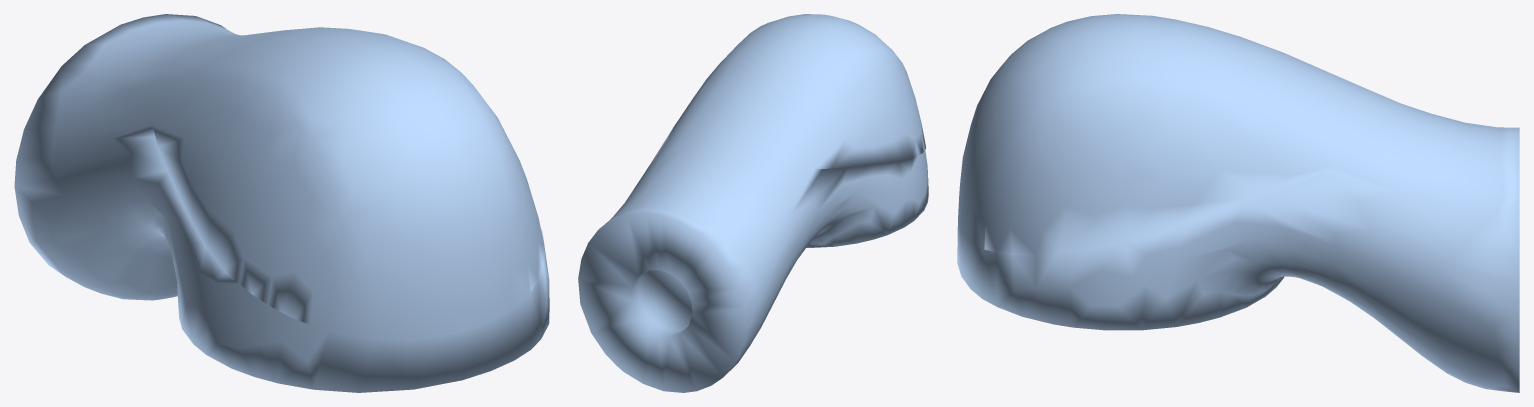
The picture shows the model from 3 angles, left to right: view 1: azimuth 30°, elevation 25°; view 2: azimuth 150°, elevation 25°; view 3: azimuth 270°, elevation 25°; orthographic projection. The views are drawn at different scales.
Parts seen in each view (by area): view 1: Link_2_Link_2.001; view 2: Link_2_Link_2.001; view 3: Link_2_Link_2.001.
Boxes of the visible parts, <box> form: Link_2_Link_2.001: <box>14,14,549,392</box>; Link_2_Link_2.001: <box>578,14,928,392</box>; Link_2_Link_2.001: <box>957,14,1519,392</box>.
Bounding box in the file's own units: 0.1708 × 0.2902 × 0.2003.
